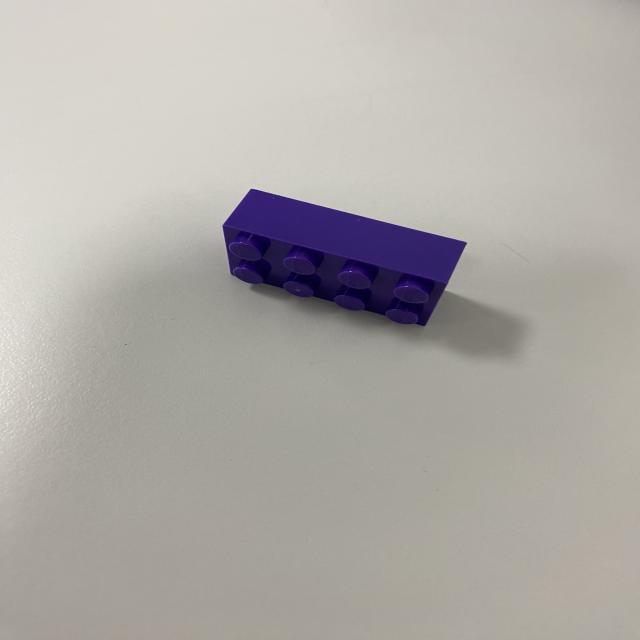C4x2x1: (225, 186, 470, 285), (224, 229, 445, 322)
